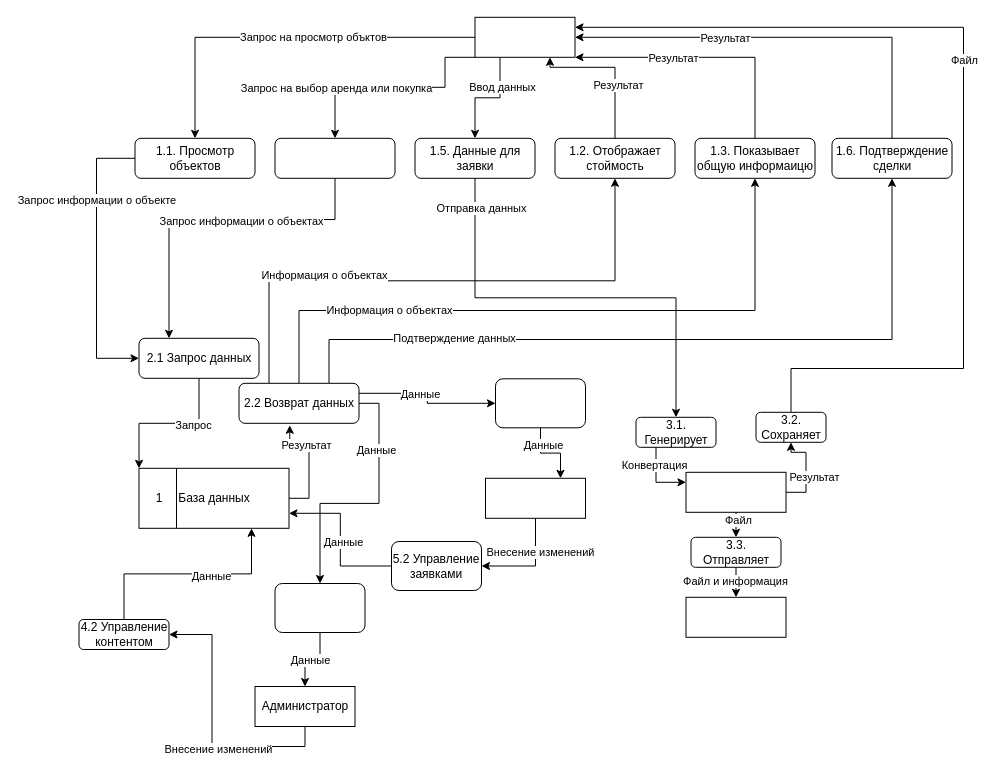
Some shapes in this 995 by 773 pixel diagram are drawn without their labels. Each missing label, with the box of its shape:
1.4. Выбор объекта: (274, 137, 395, 178)
4.1 Статистика, отчёты и данные: (274, 582, 365, 632)
5.1 Отчёты и данные: (494, 378, 586, 428)
PDF договор: (685, 471, 786, 512)
yandex-почта: (685, 596, 786, 637)
Клиент: (474, 16, 575, 57)
Менеджер: (484, 477, 586, 518)
